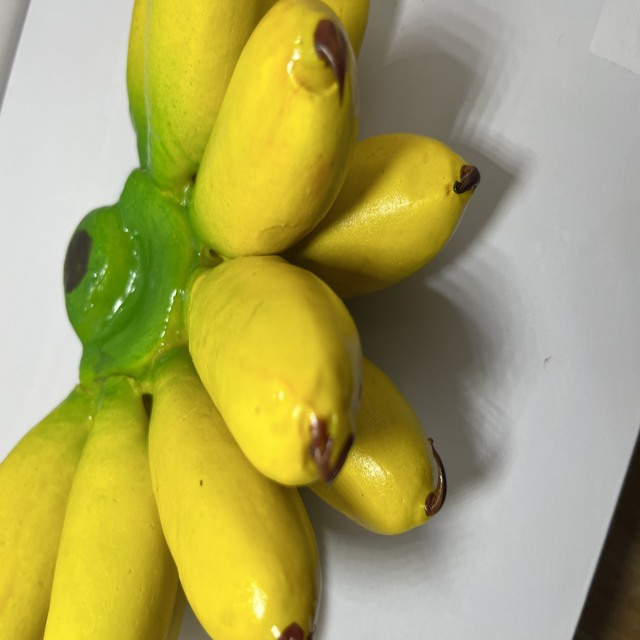Chuoi: (0, 0, 476, 640)
